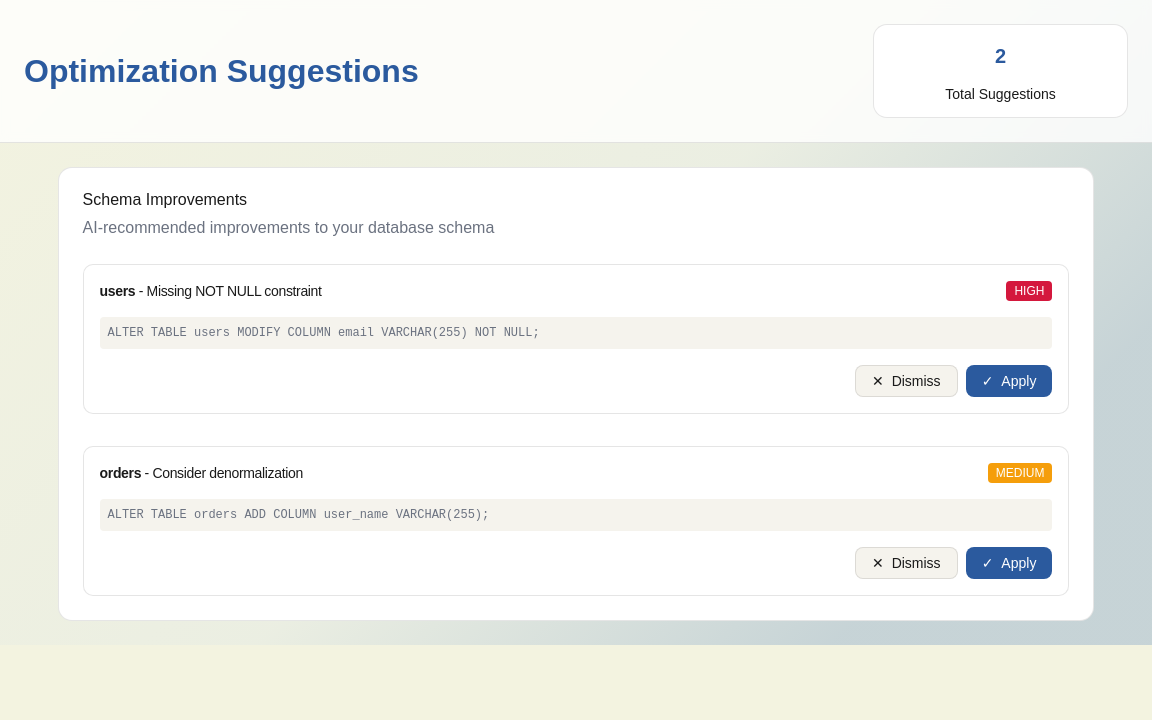
Test case: Optimization Component › Schema Improvements › should dismiss schema improvement
This screenshot has width=1152, height=720.
Check: the text "2" is shown, box top-left (995, 38), bottom-right (1006, 74)
What coordinates should you click on to do the following:
click the button "✕ Dismiss" below "HIGH"
I would click on:
 (906, 381)
Its box is top-left (855, 365), bottom-right (958, 397).
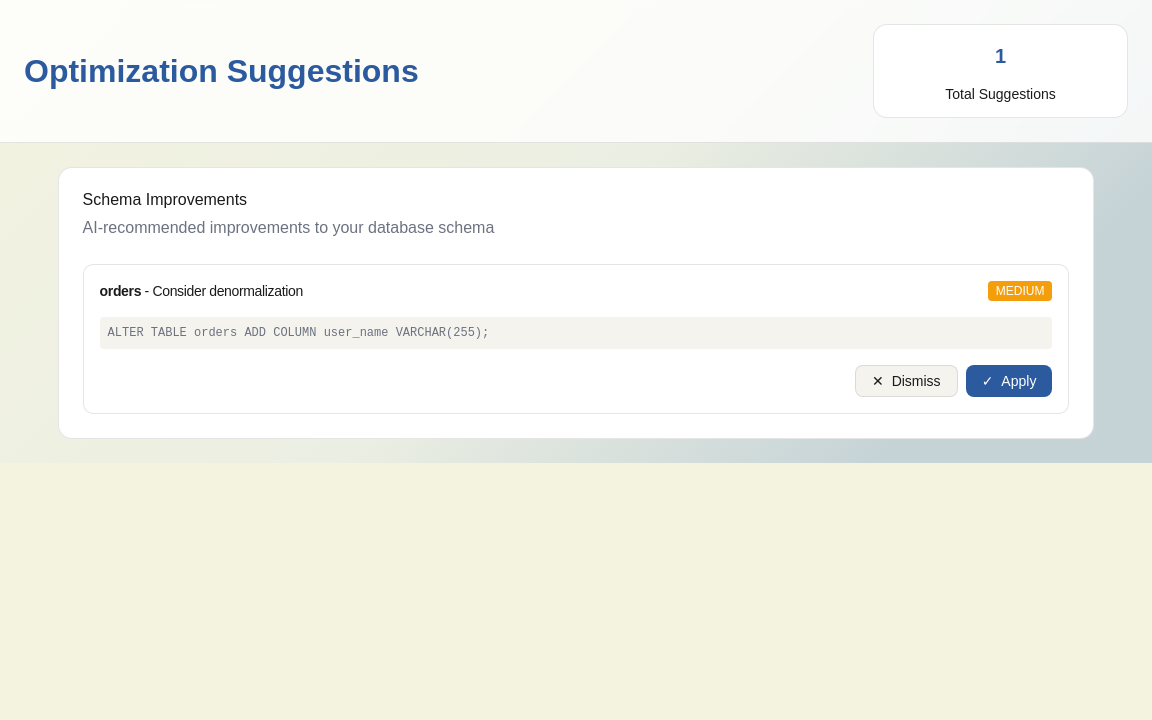
Check: the text "1" is shown, box top-left (995, 38), bottom-right (1006, 74)
